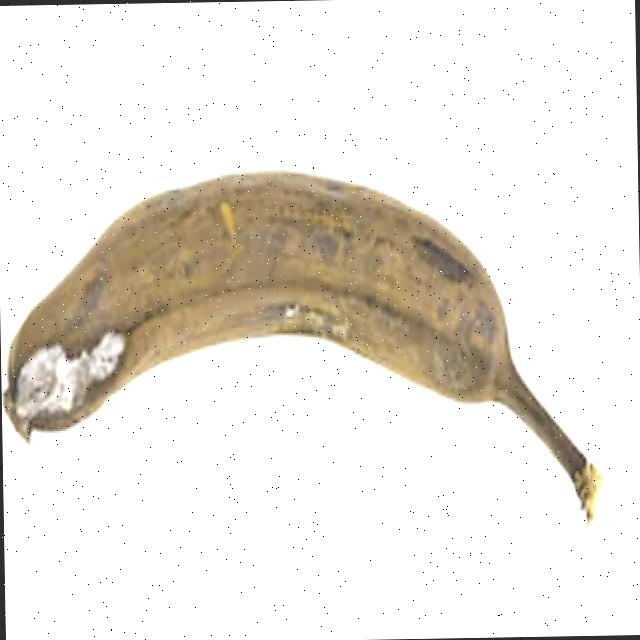Rotten: (0, 145, 614, 555)
